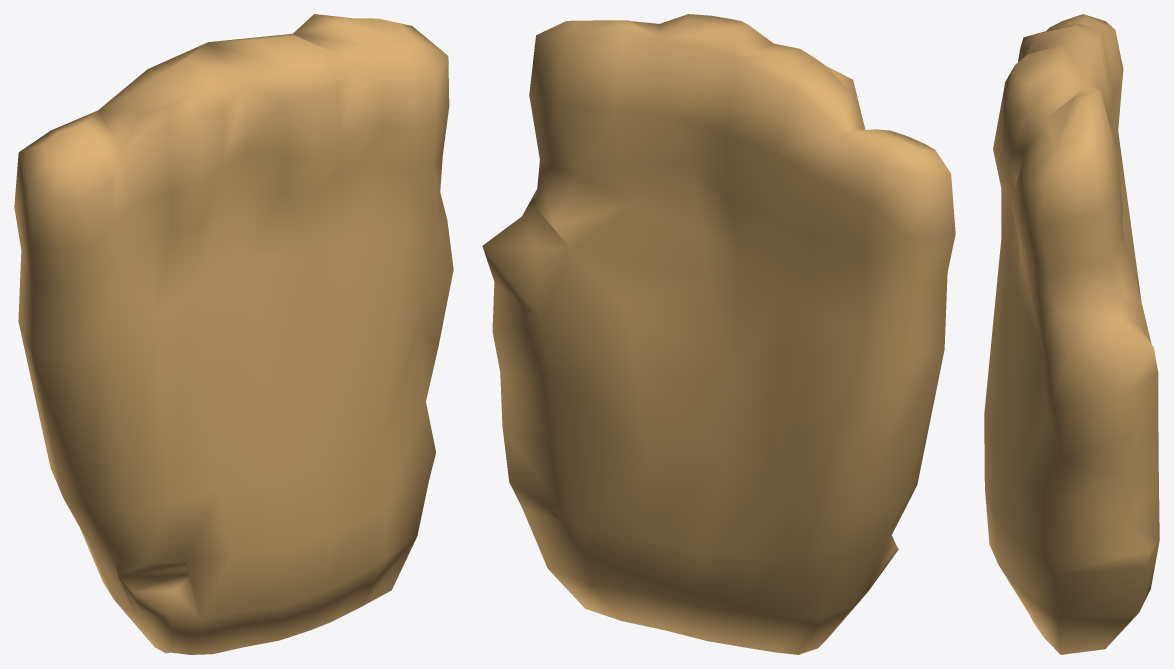
File: palm.dae
3 renders of one model, left to right at view 1: azimuth 30°, elevation 25°; view 2: azimuth 150°, elevation 25°; view 3: azimuth 270°, elevation 25°, orthographic. The views are drawn at different scales.
Parts seen in each view (by area): view 1: VIFS018; view 2: VIFS018; view 3: VIFS018.
Boxes of the visible parts, x1,y1,x2,y2 form: VIFS018: (14, 14, 453, 654); VIFS018: (482, 14, 955, 654); VIFS018: (984, 14, 1159, 654).
Bounding box in the file's own units: 0.2396 × 0.0908 × 0.3142.
